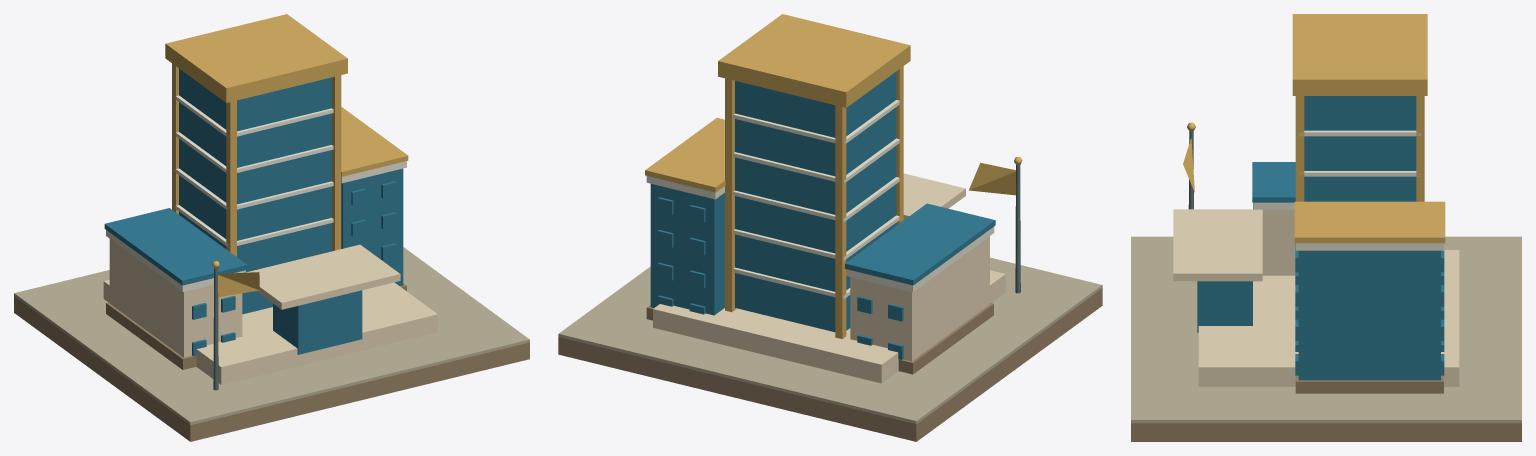
Rendered from club-headquarters-lv3.glb.
The picture shows the model from 3 angles, left to right: view 1: azimuth 30°, elevation 25°; view 2: azimuth 150°, elevation 25°; view 3: azimuth 270°, elevation 25°; orthographic projection. The views are drawn at different scales.
Parts seen in each view (by area): view 1: foundation_paving, office_tower_glass, tower_crown_gold, foundation_stoneDark, headquarters_plinth_cream, office_wing_cream, office_wing_roof_glass, entrance_canopy_cream, tower_mullions_gold, secondary_tower_glass, entrance_lobby_glass, floor_bands_white (+7 smaller); view 2: office_tower_glass, foundation_paving, tower_crown_gold, foundation_stoneDark, headquarters_plinth_cream, office_wing_cream, secondary_tower_glass, office_wing_roof_glass, tower_mullions_gold, floor_bands_white, secondary_tower_roof_gold, secondary_tower_windows_glass (+7 smaller); view 3: foundation_paving, secondary_tower_glass, tower_crown_gold, office_tower_glass, headquarters_plinth_cream, foundation_stoneDark, entrance_canopy_cream, secondary_tower_roof_gold, entrance_lobby_glass, office_wing_cream, secondary_tower_stoneDark, tower_mullions_gold (+5 smaller).
Boxes of the visible parts, bbox=[...] form: foundation_paving: bbox=[14, 247, 529, 424]; office_tower_glass: bbox=[179, 68, 331, 314]; tower_crown_gold: bbox=[165, 14, 347, 102]; foundation_stoneDark: bbox=[14, 296, 529, 441]; headquarters_plinth_cream: bbox=[103, 280, 437, 384]; office_wing_cream: bbox=[109, 239, 242, 357]; office_wing_roof_glass: bbox=[104, 208, 247, 285]; entrance_canopy_cream: bbox=[246, 244, 400, 309]; tower_mullions_gold: bbox=[172, 63, 341, 256]; secondary_tower_glass: bbox=[341, 168, 403, 286]; entrance_lobby_glass: bbox=[273, 290, 362, 354]; floor_bands_white: bbox=[175, 95, 333, 247]; office_tower_glass: bbox=[735, 72, 896, 332]; foundation_paving: bbox=[558, 257, 1102, 424]; tower_crown_gold: bbox=[718, 14, 910, 107]; foundation_stoneDark: bbox=[558, 288, 1102, 441]; headquarters_plinth_cream: bbox=[653, 270, 1005, 383]; office_wing_cream: bbox=[850, 236, 989, 361]; secondary_tower_glass: bbox=[650, 184, 724, 315]; office_wing_roof_glass: bbox=[845, 203, 995, 285]; tower_mullions_gold: bbox=[725, 66, 903, 339]; floor_bands_white: bbox=[733, 100, 899, 298]; secondary_tower_roof_gold: bbox=[645, 118, 725, 192]; secondary_tower_windows_glass: bbox=[657, 197, 705, 314]; foundation_paving: bbox=[1131, 236, 1521, 423]; secondary_tower_glass: bbox=[1298, 250, 1440, 380]; tower_crown_gold: bbox=[1292, 14, 1427, 95]; office_tower_glass: bbox=[1304, 96, 1416, 201]; headquarters_plinth_cream: bbox=[1198, 250, 1459, 386]; foundation_stoneDark: bbox=[1131, 423, 1521, 441]; entrance_canopy_cream: bbox=[1173, 209, 1262, 281]; secondary_tower_roof_gold: bbox=[1294, 201, 1445, 243]; entrance_lobby_glass: bbox=[1197, 281, 1252, 332]; office_wing_cream: bbox=[1262, 210, 1295, 275]; secondary_tower_stoneDark: bbox=[1295, 375, 1443, 393]; tower_mullions_gold: bbox=[1295, 96, 1424, 201].
Size of the model in its own units: 1 by 0.7708 by 0.9.
